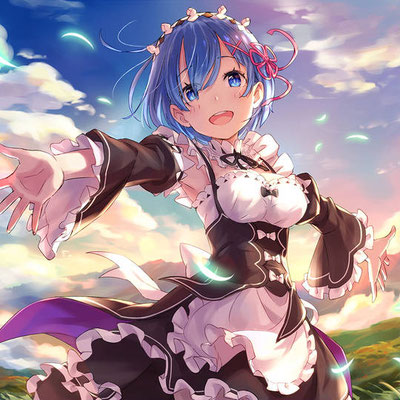rem: (2, 14, 389, 400)
